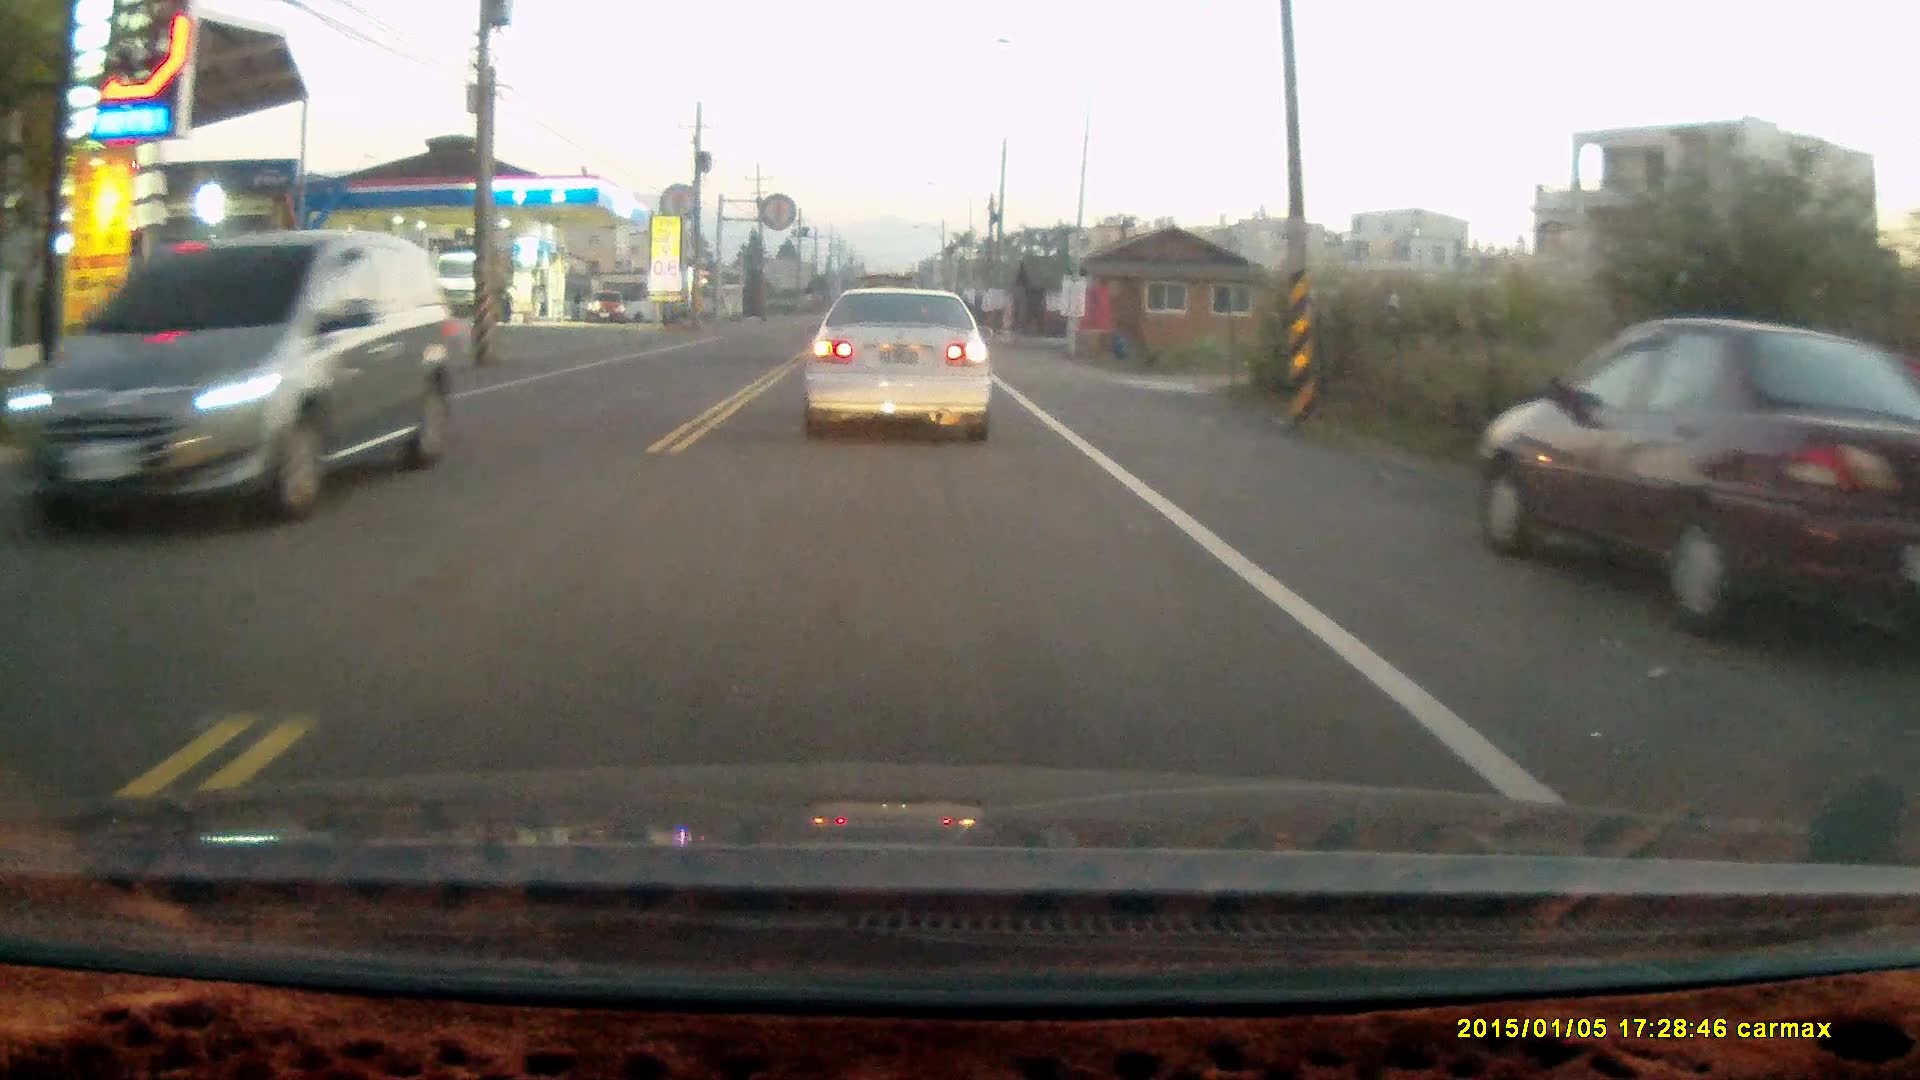pedestrian: (498, 282, 519, 324)
vehicle: (1474, 313, 1915, 693), (1, 233, 466, 517), (796, 282, 995, 442), (587, 290, 627, 325)
